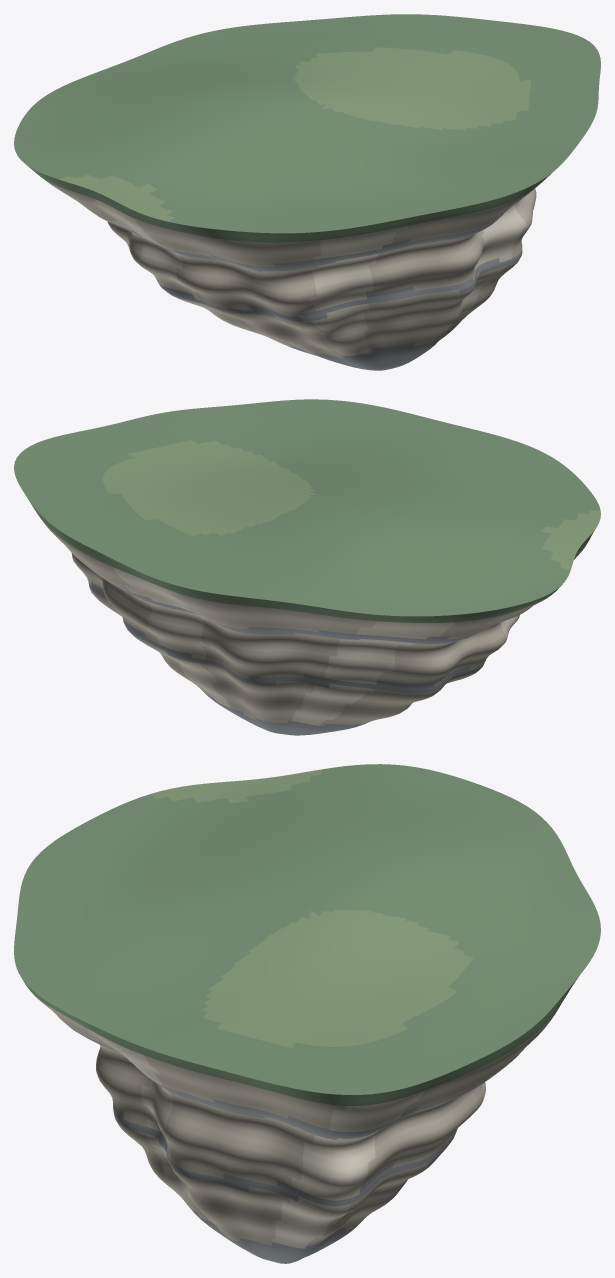
The model's file is island_calibration.glb.
The picture shows the model from 3 angles, top to bottom: view 1: azimuth 30°, elevation 25°; view 2: azimuth 150°, elevation 25°; view 3: azimuth 270°, elevation 25°; orthographic projection. The views are drawn at different scales.
Parts seen in each view (by area): view 1: Surface, RockShell; view 2: Surface, RockShell; view 3: Surface, RockShell.
Boxes of the visible parts, bbox=[...] form: Surface: bbox=[14, 14, 600, 233]; RockShell: bbox=[27, 165, 552, 370]; Surface: bbox=[14, 399, 600, 616]; RockShell: bbox=[27, 498, 594, 735]; Surface: bbox=[14, 764, 600, 1094]; RockShell: bbox=[23, 977, 578, 1263].
Bounding box in the file's own units: 18.6 × 8.6 × 14.06.
